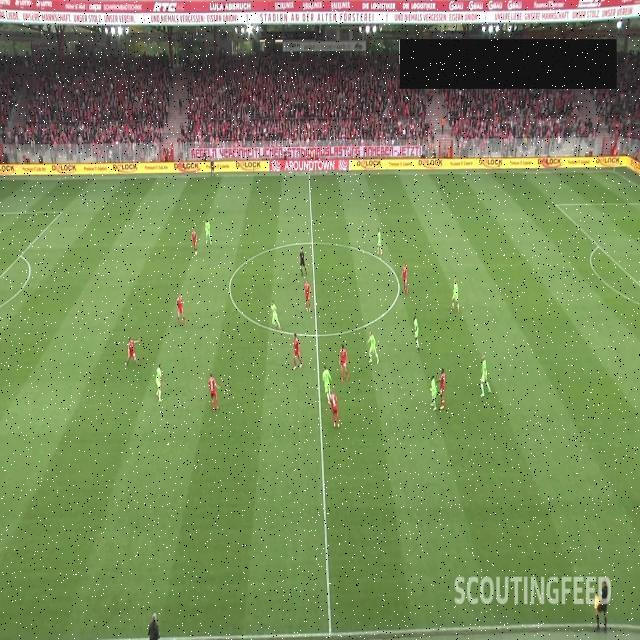Ball: (195, 250, 198, 256)
Corner: (610, 145, 620, 175)
Referee: (594, 576, 610, 634), (298, 248, 308, 276), (210, 159, 216, 178)
TEAM 1: (328, 388, 340, 428), (124, 336, 140, 366), (208, 372, 220, 412), (291, 332, 303, 370), (339, 343, 349, 383), (176, 293, 187, 325), (438, 368, 446, 410), (304, 280, 311, 314), (402, 263, 408, 294), (191, 228, 197, 256)
TEAM 2: (480, 354, 492, 398), (366, 330, 379, 364), (155, 362, 165, 402), (270, 300, 282, 332), (322, 365, 332, 403), (451, 277, 460, 314), (430, 374, 438, 410), (414, 314, 421, 351), (205, 218, 212, 245), (376, 228, 382, 255)
